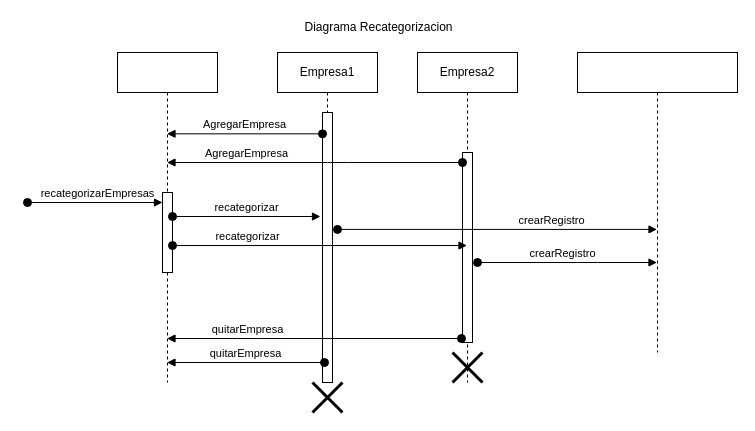
Image size: 755x431. Some labels were removed from this diagram. Here are the shapes that lost their labels. From the top down, the box of each, then its label:
(116, 52, 218, 382): Recategorizador
(576, 52, 738, 352): RegistroRecategorizacion
